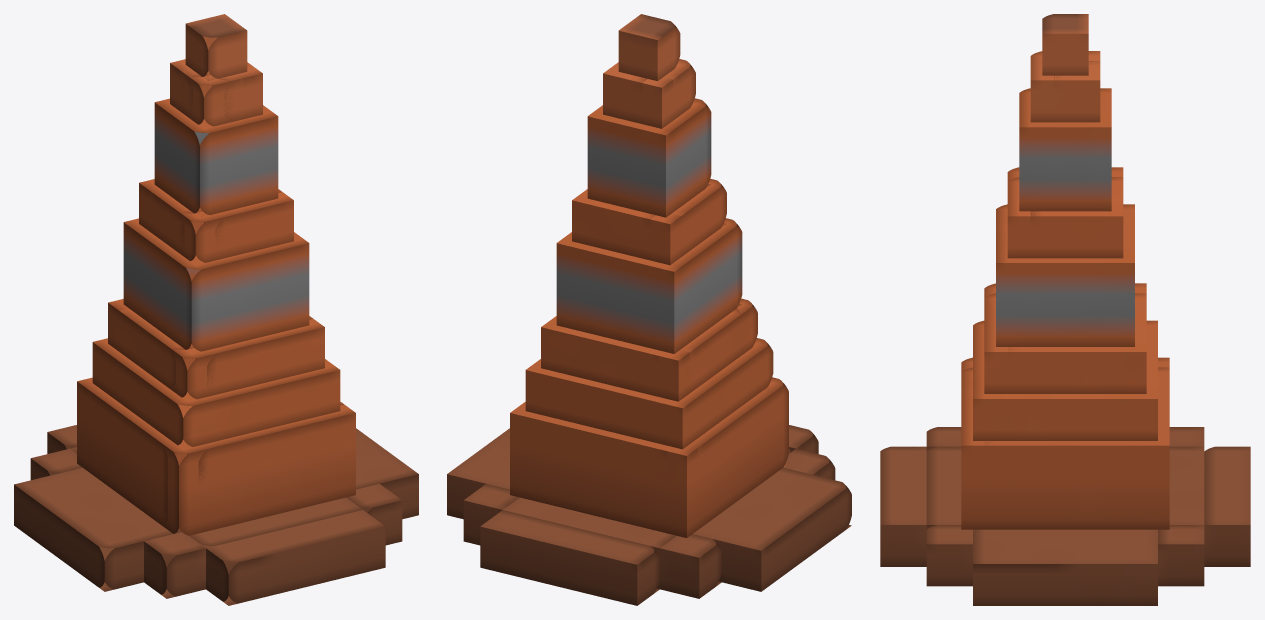
3 renders of one model, left to right at view 1: azimuth 30°, elevation 25°; view 2: azimuth 150°, elevation 25°; view 3: azimuth 270°, elevation 25°, orthographic. The views are drawn at different scales.
Visible parts, largest first — view 1: baseModel18, baseModel10, baseModel13, baseModel1, baseModel19, baseModel3, baseModel11, baseModel9, baseModel22, baseModel16, baseModel15, baseModel28 (+12 smaller); view 2: baseModel18, baseModel13, baseModel1, baseModel19, baseModel0, baseModel12, baseModel10, baseModel9, baseModel17, baseModel20, baseModel14, baseModel28 (+12 smaller); view 3: baseModel11, baseModel5, baseModel18, baseModel13, baseModel19, baseModel12, baseModel16, baseModel8, baseModel3, baseModel0, baseModel20, baseModel17 (+8 smaller).
Part boxes in pixels (bbox=[...]): baseModel18: bbox=[123, 218, 309, 351]; baseModel10: bbox=[88, 390, 335, 535]; baseModel13: bbox=[92, 338, 340, 446]; baseModel1: bbox=[14, 467, 181, 591]; baseModel19: bbox=[154, 98, 278, 216]; baseModel3: bbox=[206, 510, 385, 605]; baseModel11: bbox=[178, 404, 355, 514]; baseModel9: bbox=[77, 377, 187, 524]; baseModel22: bbox=[150, 191, 273, 262]; baseModel16: bbox=[195, 319, 324, 392]; baseModel15: bbox=[120, 308, 304, 399]; baseModel28: bbox=[185, 14, 247, 80]; baseModel18: bbox=[556, 218, 742, 353]; baseModel13: bbox=[525, 338, 773, 449]; baseModel1: bbox=[693, 467, 851, 591]; baseModel19: bbox=[587, 98, 711, 217]; baseModel0: bbox=[480, 510, 659, 605]; baseModel12: bbox=[510, 404, 667, 510]; baseModel10: bbox=[698, 377, 788, 529]; baseModel9: bbox=[530, 388, 771, 537]; baseModel17: bbox=[541, 319, 658, 390]; baseModel20: bbox=[572, 192, 655, 260]; baseModel14: bbox=[561, 308, 740, 401]; baseModel28: bbox=[618, 14, 680, 81]; baseModel11: bbox=[961, 367, 1146, 529]; baseModel5: bbox=[973, 529, 1157, 605]; baseModel18: bbox=[996, 204, 1134, 346]; baseModel13: bbox=[973, 320, 1157, 440]; baseModel19: bbox=[1019, 88, 1111, 211]; baseModel12: bbox=[984, 367, 1169, 529]; baseModel16: bbox=[984, 293, 1123, 393]; baseModel8: bbox=[926, 446, 1204, 528]; baseModel3: bbox=[880, 446, 926, 566]; baseModel0: bbox=[1204, 446, 1250, 566]; baseModel20: bbox=[1030, 177, 1123, 258]; baseModel17: bbox=[1007, 293, 1146, 393].
Bounding box in the file's own units: 8 × 12 × 8.
